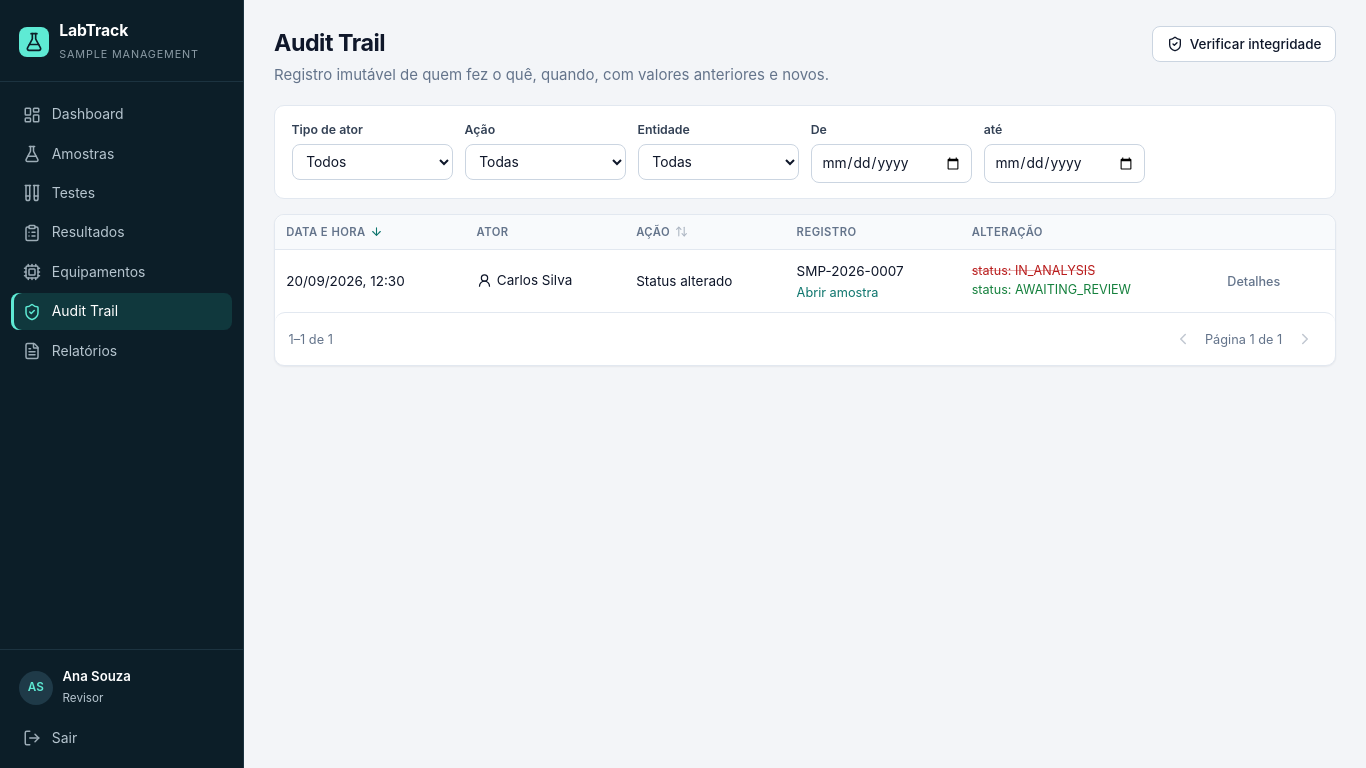
Test: Audit trail › verifica a integridade da cadeia e mostra o primeiro registro inválido
The width and height of the screenshot is (1366, 768).
Click the button "Verificar integridade" at coordinates (1244, 44), box [1152,26,1336,62]
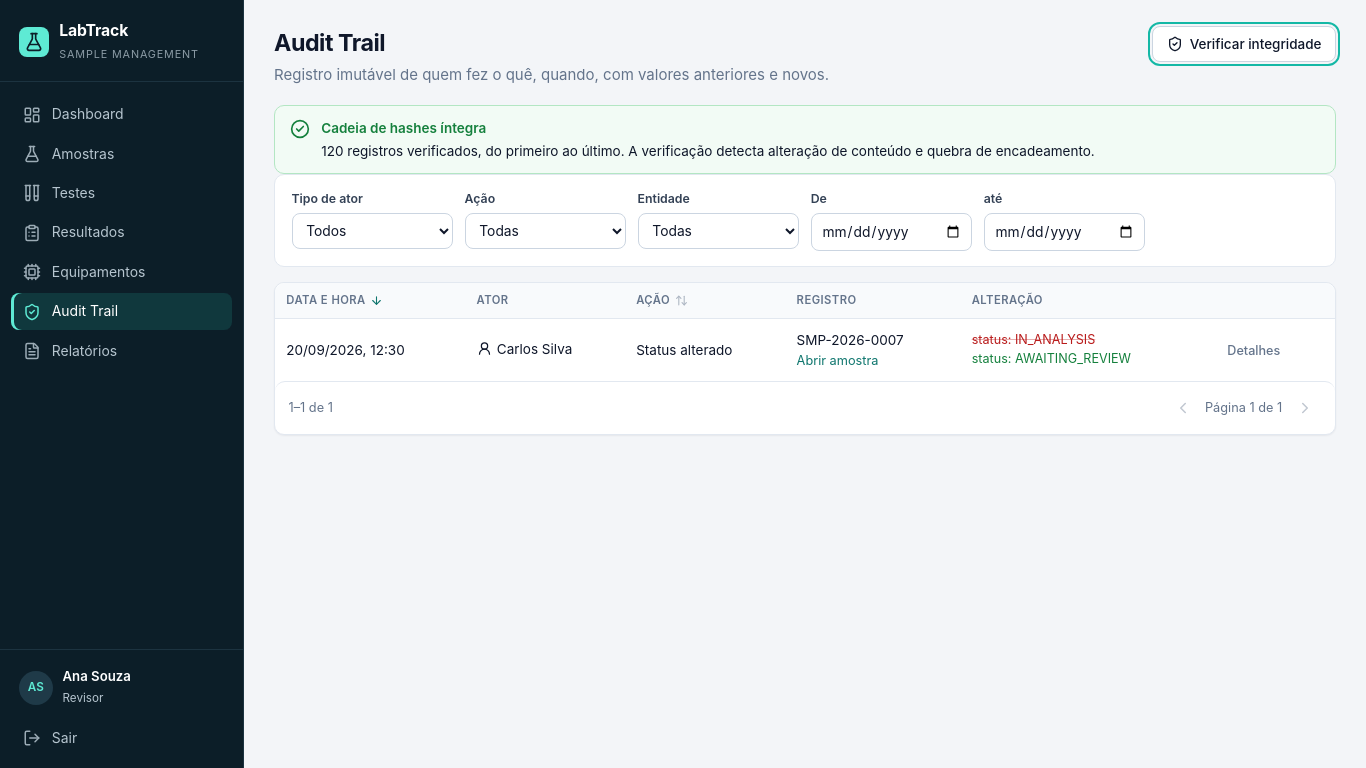
Now the text "Cadeia de hashes íntegra" is shown, box [321,120,486,136]
Now the text "120 registros verificados" is shown, box [321,141,1095,161]
Click the button "Verificar integridade" at coordinates (1244, 44), box [1152,26,1336,62]
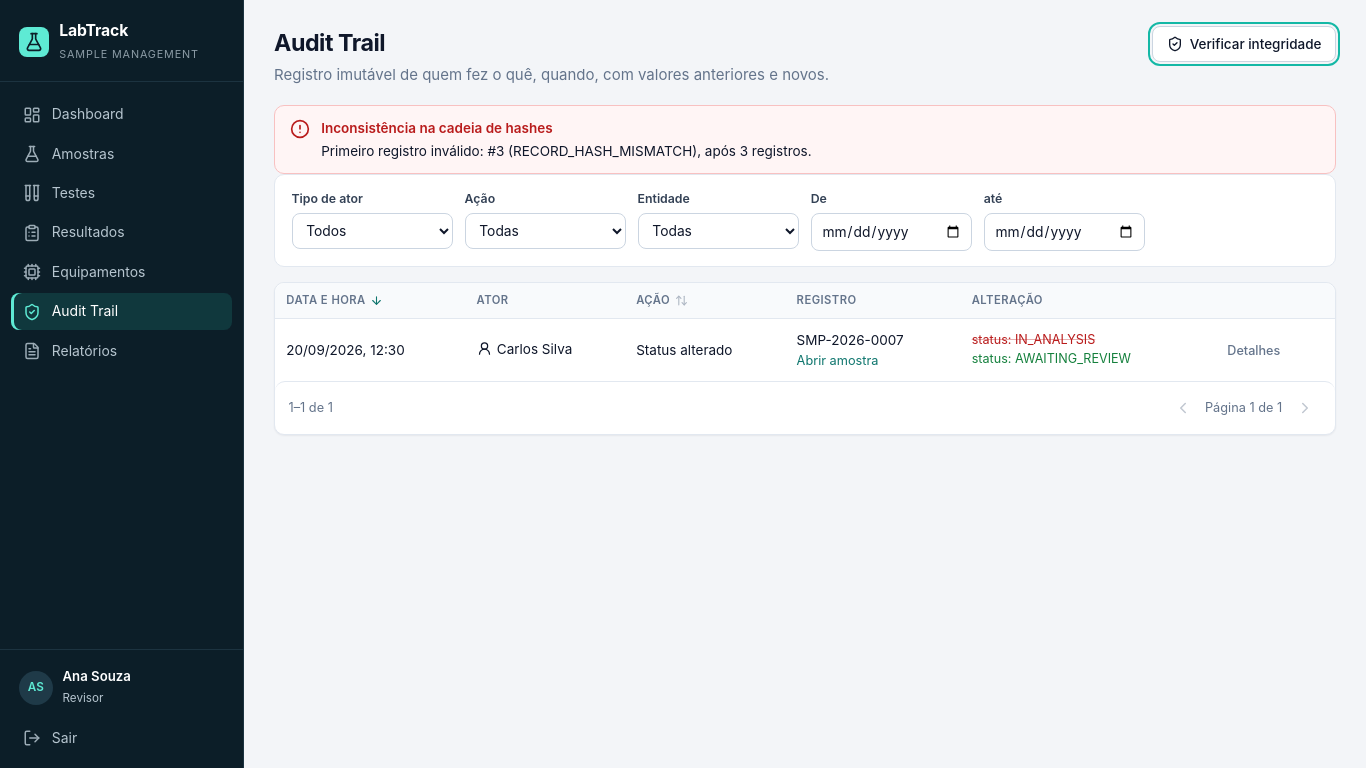
Now the text "Inconsistência na cadeia de hashes" is shown, box [321,120,553,136]
